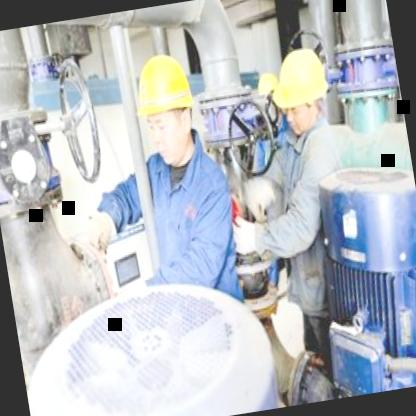helmet: (129, 42, 206, 169), (270, 42, 334, 134)
